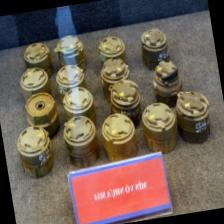M14: (174, 88, 216, 147), (15, 124, 57, 182), (140, 99, 180, 153), (61, 114, 101, 168), (99, 111, 138, 164), (106, 79, 142, 114), (59, 84, 96, 118), (23, 91, 57, 126), (137, 26, 169, 63), (150, 58, 181, 96), (15, 65, 51, 96), (96, 57, 132, 84), (54, 36, 85, 66), (54, 64, 85, 90), (96, 35, 126, 60), (21, 42, 52, 66)
